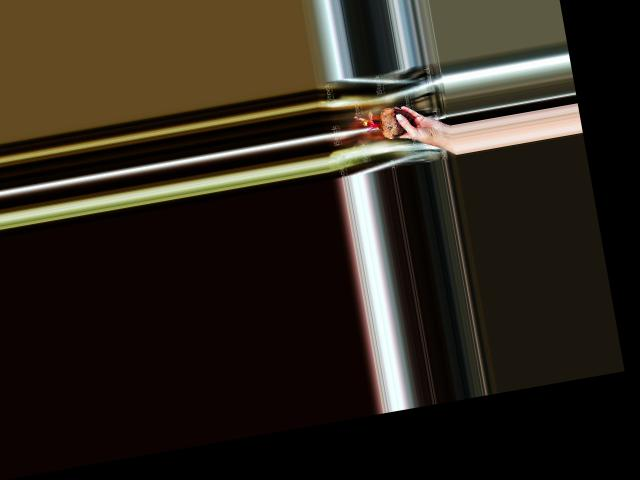beet: (354, 103, 416, 144)
